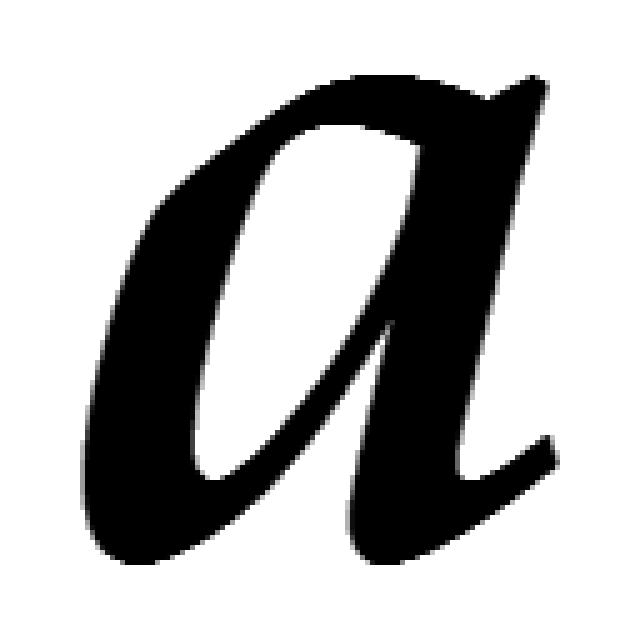A: (70, 55, 570, 575)
